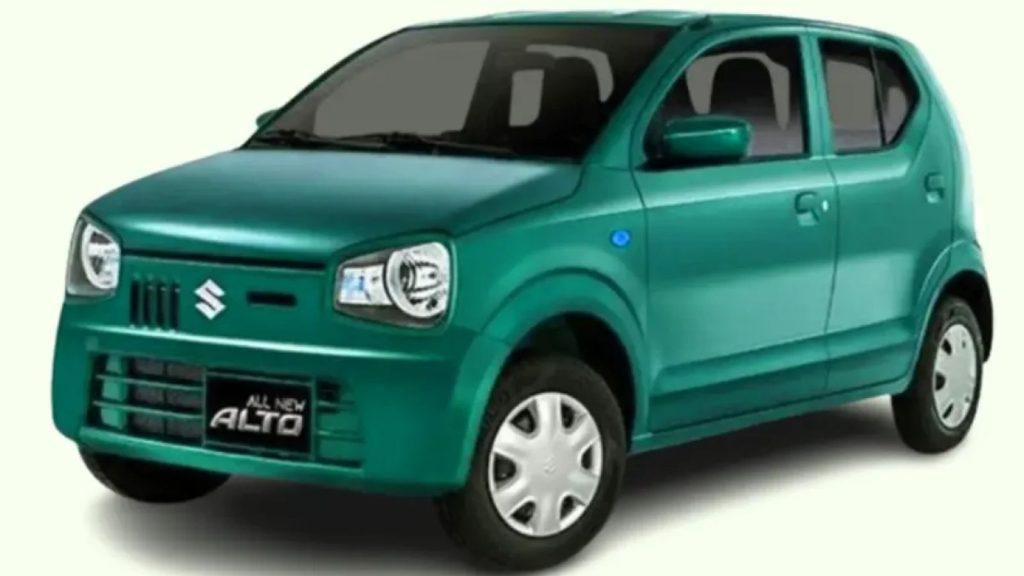Hatchback: (50, 3, 997, 576)
